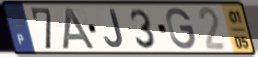2: (197, 6, 228, 52)
3: (129, 7, 156, 50)
7: (29, 6, 53, 51)
A: (61, 7, 98, 51)
G: (164, 7, 197, 51)
J: (103, 8, 125, 50)
